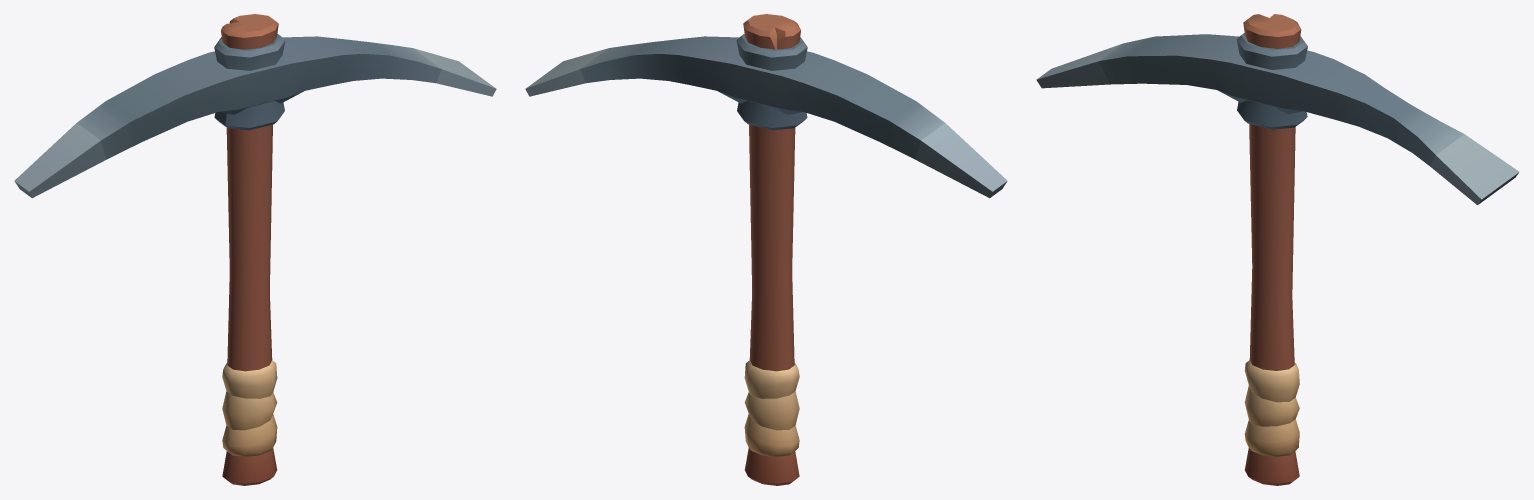
File: pickaxe.glb
3 views of the same model, side by side, from view 1: azimuth 30°, elevation 25°; view 2: azimuth 150°, elevation 25°; view 3: azimuth 330°, elevation 25° (orthographic).
Visible parts, largest first — view 1: pickaxe; view 2: pickaxe; view 3: pickaxe.
Part boxes in pixels (x1=…): pickaxe: x1=14, y1=14, x2=496, y2=485; pickaxe: x1=525, y1=14, x2=1007, y2=485; pickaxe: x1=1036, y1=14, x2=1519, y2=485.
Size of the model in its own units: 1.45 by 1.39 by 0.2085.
1 material, 1 textured.
